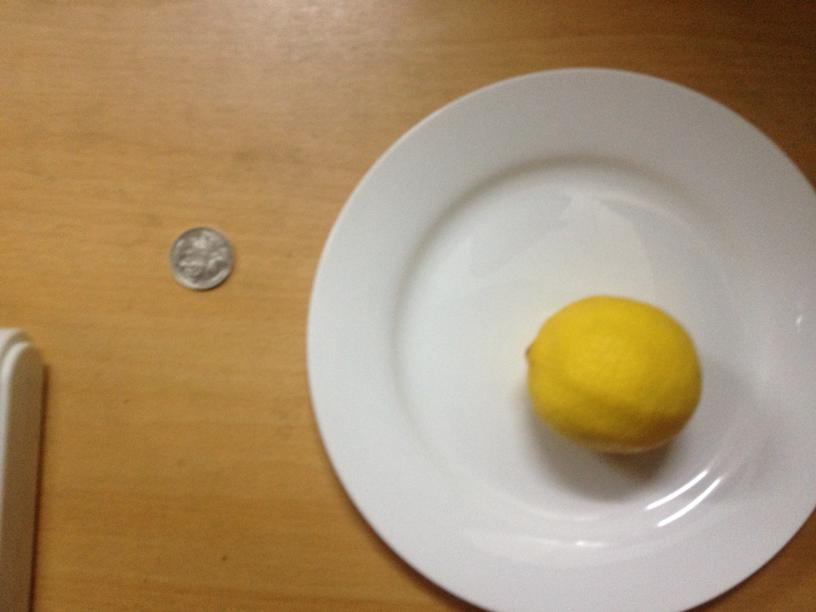coin: (169, 224, 232, 290)
lemon: (527, 290, 698, 453)
